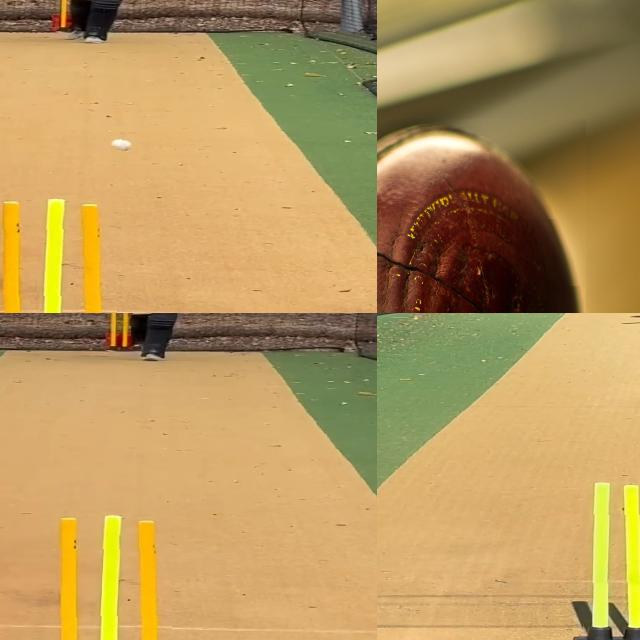Cricket ball: (377, 119, 586, 313), (110, 137, 134, 152)
Stumps: (37, 514, 171, 640), (0, 195, 117, 313), (581, 481, 640, 640)
